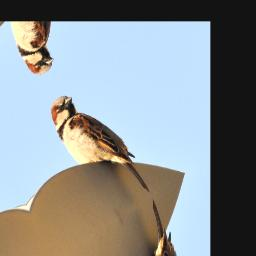Swallow: (44, 73, 151, 225)
